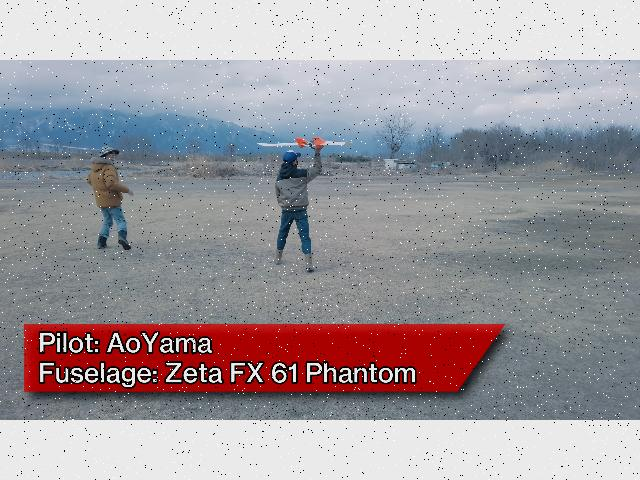Anti-Drone: (256, 133, 356, 149)
